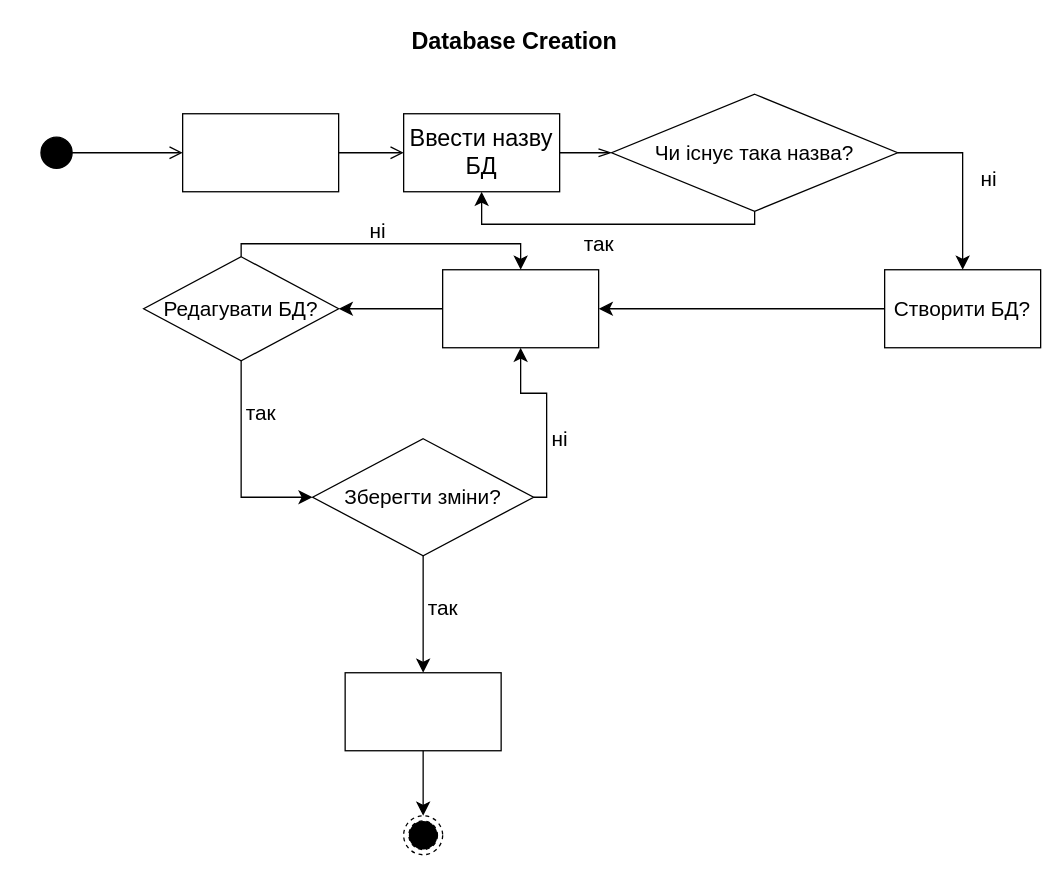
Some shapes in this 1063 by 877 pixel diagram are drawn without their labels. Here are the shapes that lost their labels. From the top down, the box of each, then its label:
(181, 112, 339, 192): main Form
(441, 268, 599, 348): Переглянути дані бази даних
(344, 671, 501, 751): Збереження БД
